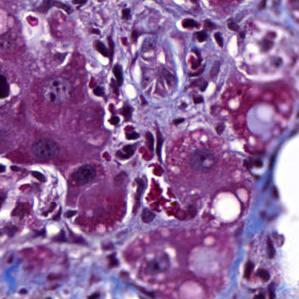inflammation: (176, 12, 230, 49), (99, 99, 140, 135)
